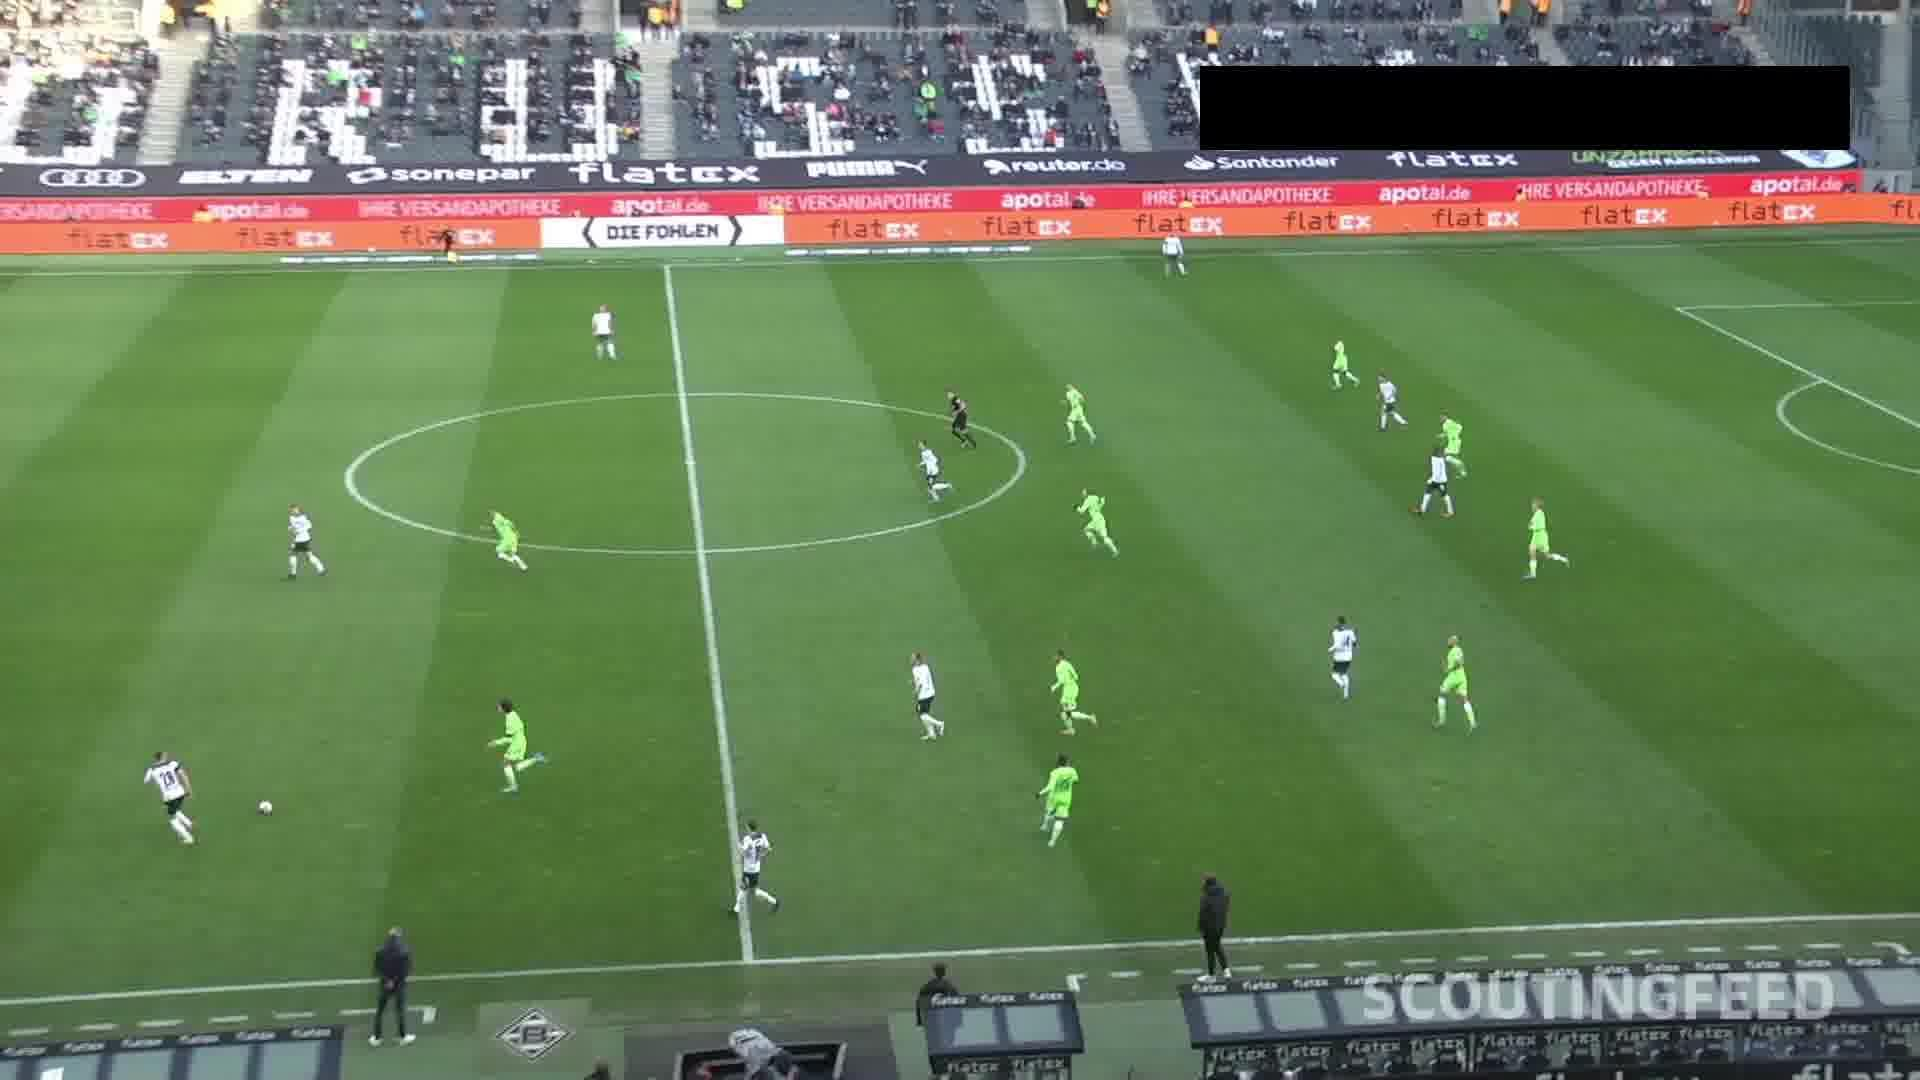football: (255, 798, 274, 819)
